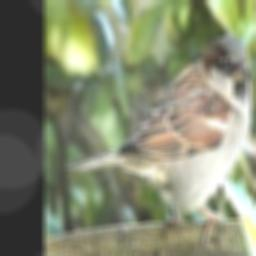Sparrow: (65, 33, 250, 241)
